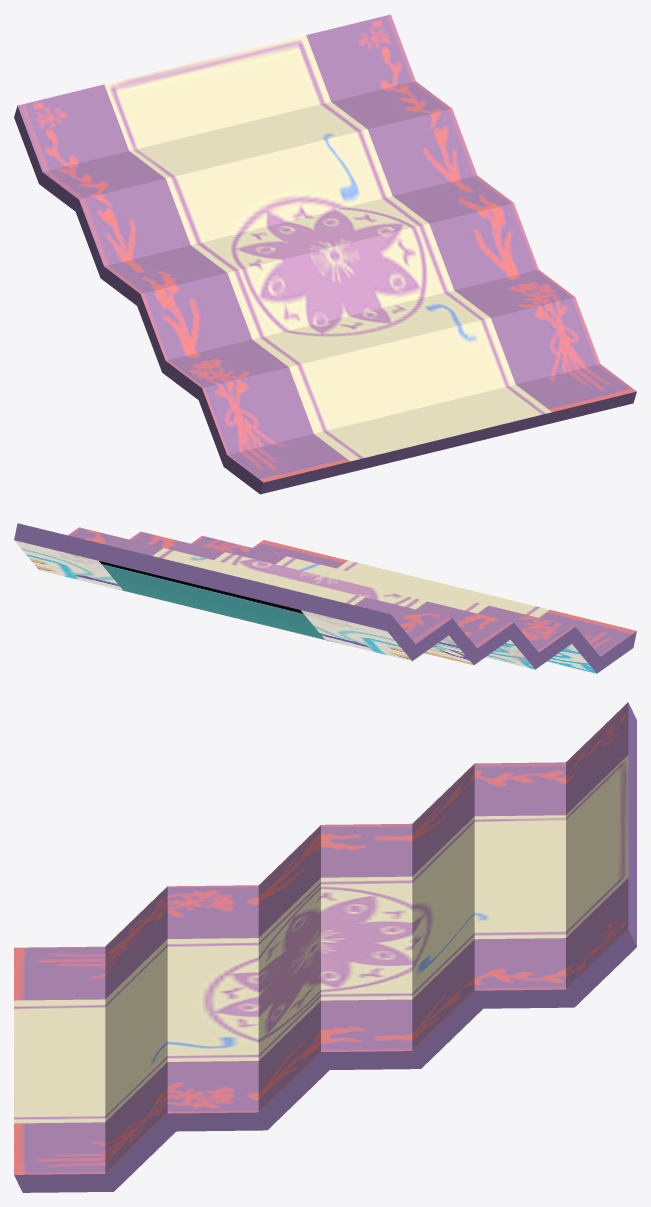
Rendered from Building_Vapor_Ramp_02.glb.
The picture shows the model from 3 angles, top to bottom: view 1: azimuth 30°, elevation 25°; view 2: azimuth 150°, elevation 25°; view 3: azimuth 270°, elevation 25°; orthographic projection. The views are drawn at different scales.
Parts seen in each view (by area): view 1: Building_Vapor_Ramp_02; view 2: Building_Vapor_Ramp_02; view 3: Building_Vapor_Ramp_02.
Boxes of the visible parts, x1,y1,x2,y2 form: Building_Vapor_Ramp_02: [14, 14, 636, 494]; Building_Vapor_Ramp_02: [14, 523, 636, 673]; Building_Vapor_Ramp_02: [14, 702, 636, 1192].
Size of the model in its own units: 4.8 by 2.6 by 5.56.
Materials: 3 (3 with a texture image).
